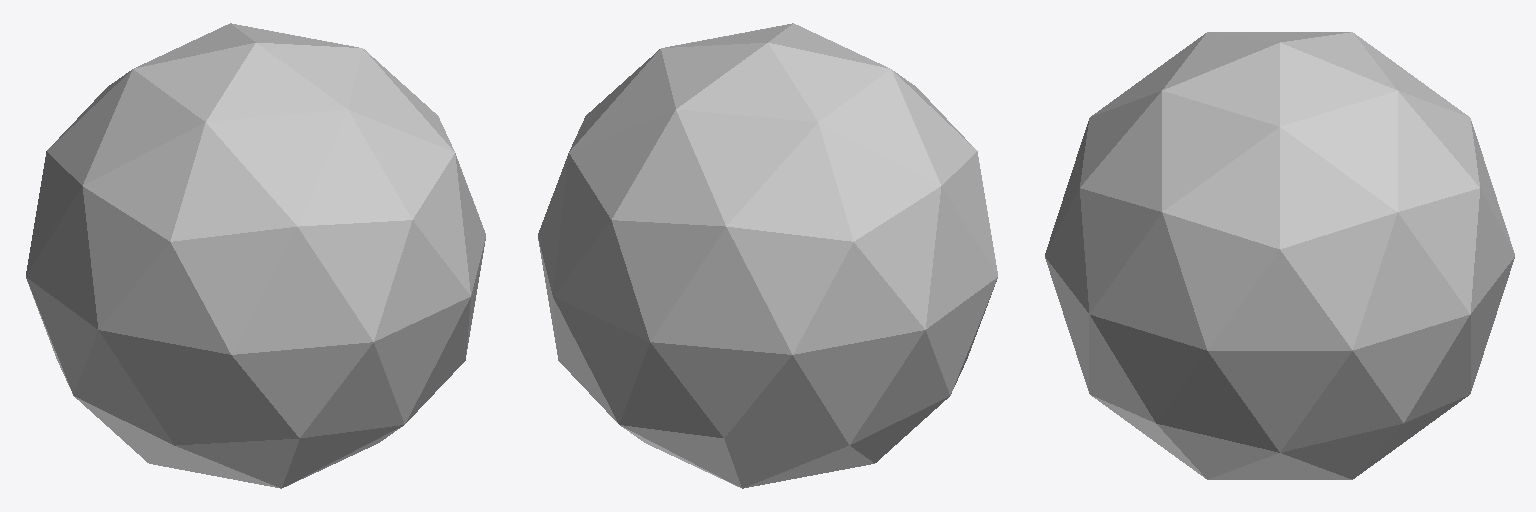
Rendered from bolas_pool.obj.
3 views of the same model, side by side, from view 1: azimuth 30°, elevation 25°; view 2: azimuth 150°, elevation 25°; view 3: azimuth 270°, elevation 25° (orthographic).
Parts seen in each view (by area): view 1: Bolas.001; view 2: Bolas.001; view 3: Bolas.001.
Boxes of the visible parts, box(x1,y1,x2,y2) form: Bolas.001: box(26, 23, 485, 488); Bolas.001: box(538, 23, 997, 488); Bolas.001: box(1045, 32, 1514, 479).
Bounding box in the file's own units: 0.0553 × 0.0581 × 0.0581.